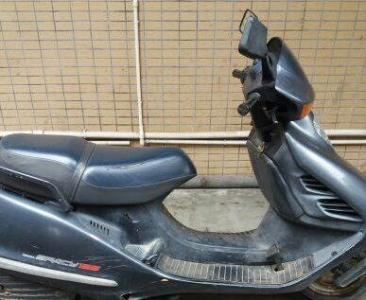motor: (2, 62, 366, 298)
